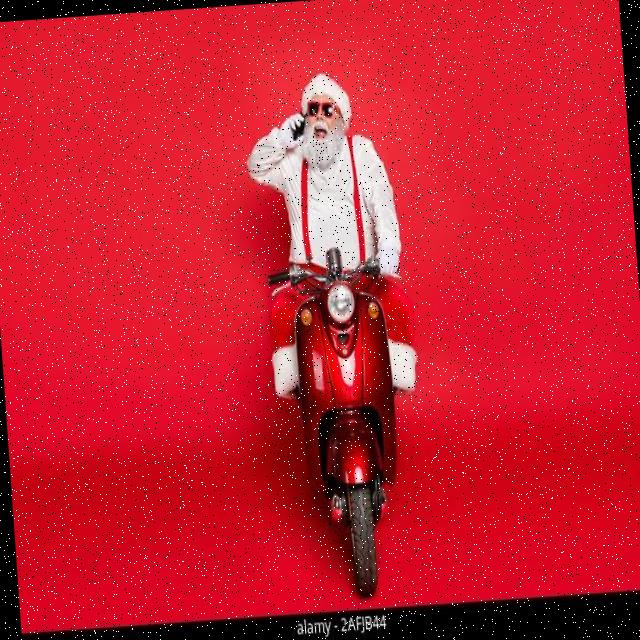Using mobile: (252, 51, 390, 196)
